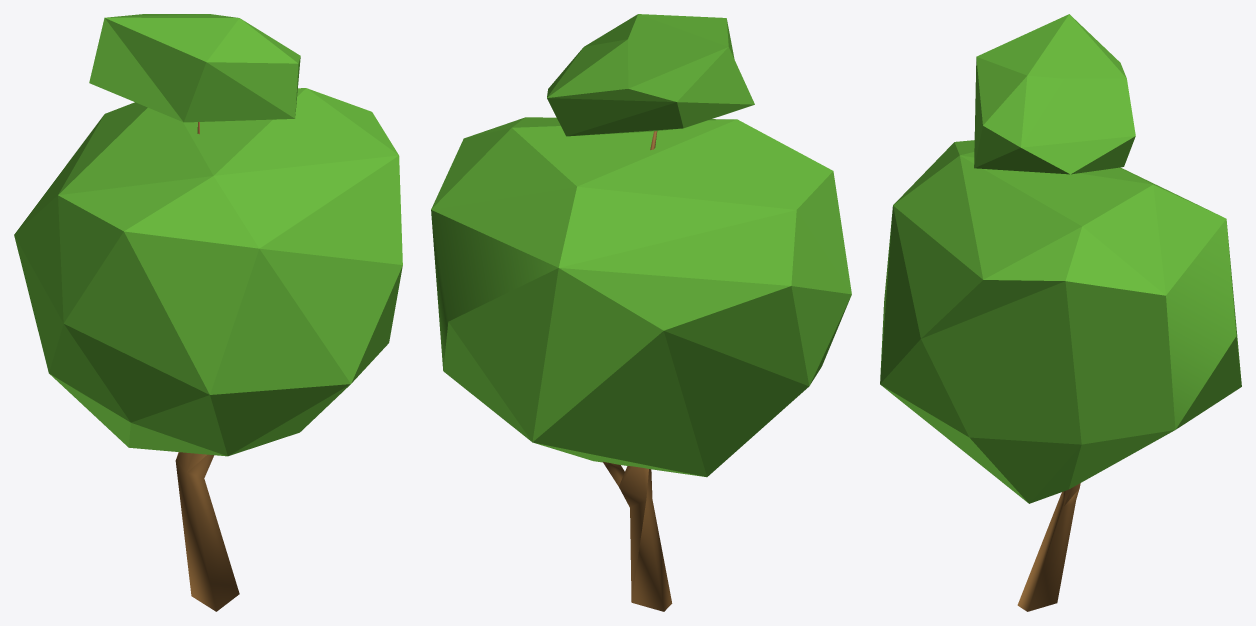
Rendered from Tree2.fbx.
3 renders of one model, left to right at view 1: azimuth 30°, elevation 25°; view 2: azimuth 150°, elevation 25°; view 3: azimuth 270°, elevation 25°, orthographic. The views are drawn at different scales.
Visible parts, largest first — view 1: Bush_2; view 2: Bush_2; view 3: Bush_2.
Boxes of the visible parts, x1,y1,x2,y2 form: Bush_2: (14,14,402,611); Bush_2: (431,14,851,611); Bush_2: (880,14,1241,611).
Size of the model in its own units: 155 by 254 by 151.
